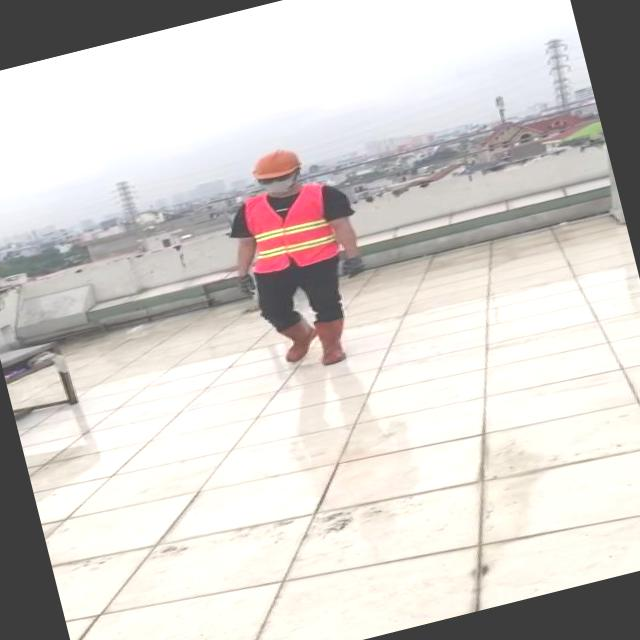boots: (312, 314, 359, 367), (274, 314, 322, 365)
gloves: (337, 248, 379, 288), (228, 263, 264, 301)
helmet: (244, 140, 311, 186)
vest: (234, 180, 340, 278)
